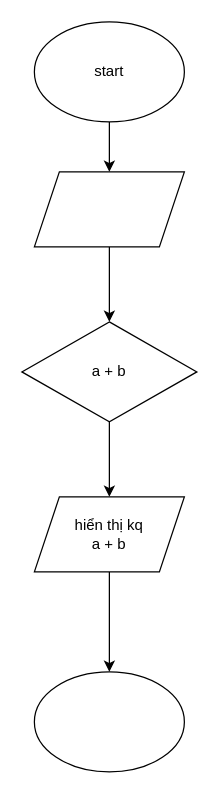
Some shapes in this 219 by 794 pixel diagram are drawn without their labels. The shapes that lost their labels are listed below. From the top down, each one's centre as x and y in pixels, then its label:
At point (108, 209): "nhập a và b".
At point (108, 721): "end".
